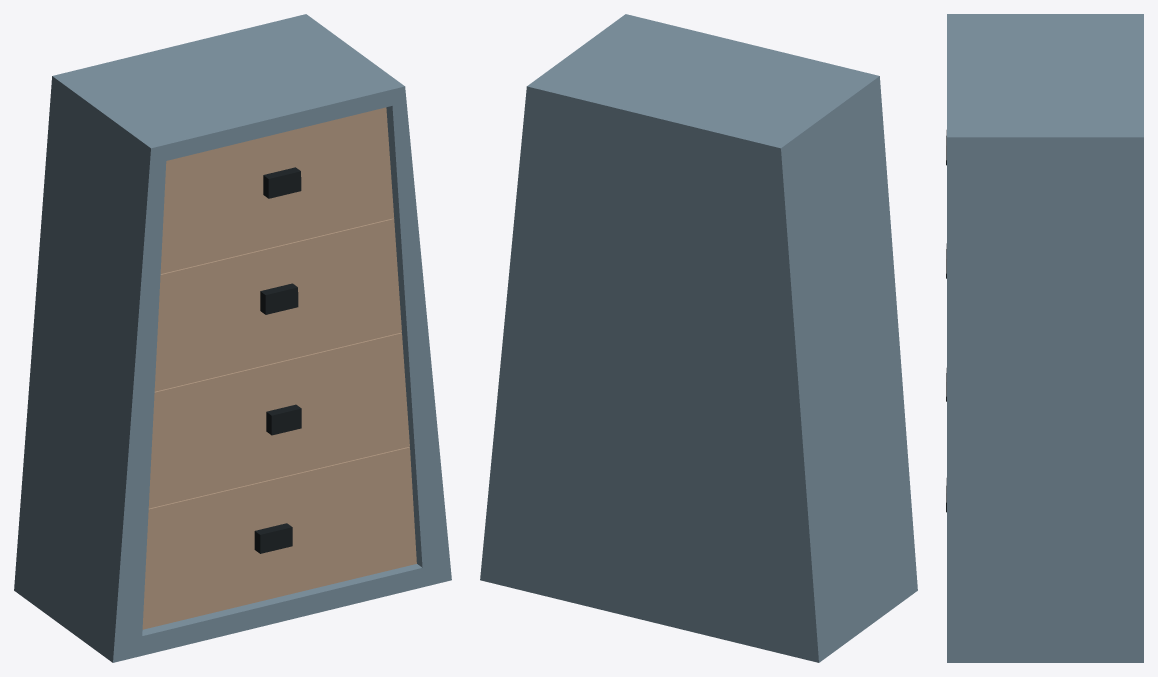
File: bedroom locker static.fbx
The picture shows the model from 3 angles, left to right: view 1: azimuth 30°, elevation 25°; view 2: azimuth 150°, elevation 25°; view 3: azimuth 270°, elevation 25°; orthographic projection.
Parts seen in each view (by area): view 1: locker bedroom, locker bedroom door 4, locker bedroom door 3, locker bedroom door 2, locker bedroom door 1; view 2: locker bedroom; view 3: locker bedroom.
Boxes of the visible parts, left/top/right/bottom form: locker bedroom: left=14, top=14, right=451, bottom=662; locker bedroom door 4: left=142, top=447, right=416, bottom=629; locker bedroom door 3: left=148, top=332, right=409, bottom=508; locker bedroom door 2: left=154, top=218, right=401, bottom=391; locker bedroom door 1: left=160, top=107, right=394, bottom=273; locker bedroom: left=480, top=14, right=917, bottom=662; locker bedroom: left=947, top=14, right=1143, bottom=662.
Bounding box in the file's own units: 0.9707 × 1.38 × 0.4932.
